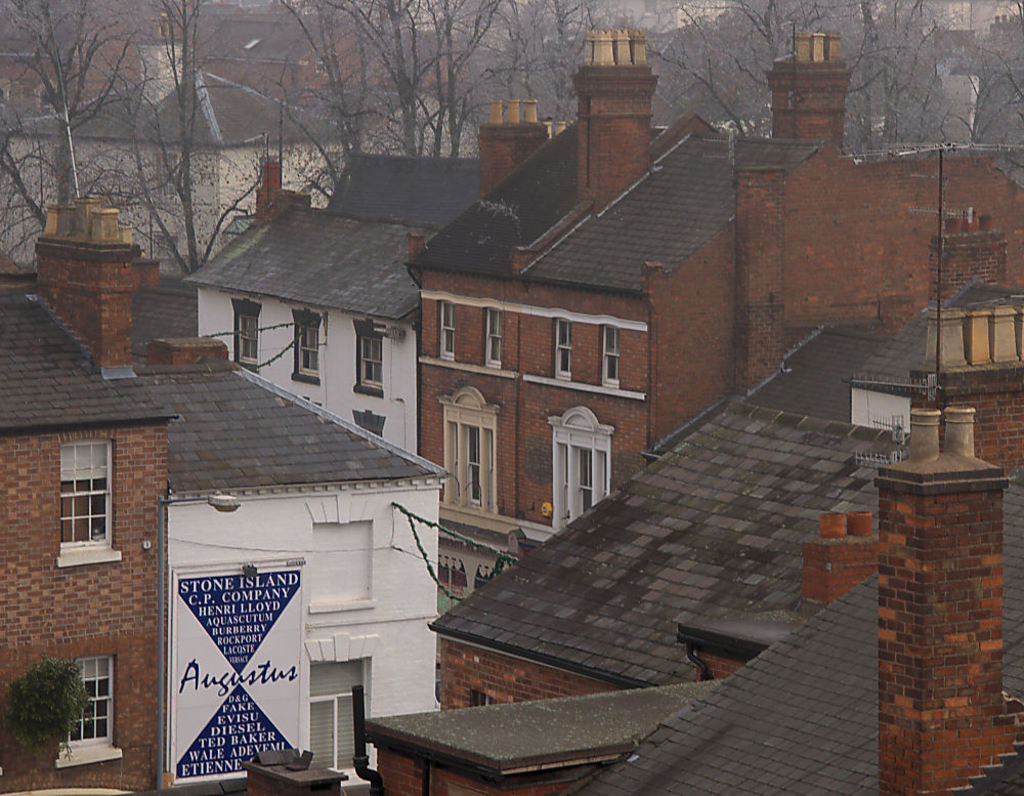Window: (41, 647, 117, 761), (551, 412, 615, 528), (311, 656, 369, 770), (442, 391, 494, 512), (61, 444, 115, 551), (355, 327, 385, 396), (295, 320, 319, 387), (481, 306, 505, 370), (554, 318, 578, 378), (600, 320, 620, 392), (240, 311, 265, 368), (436, 297, 457, 361)
